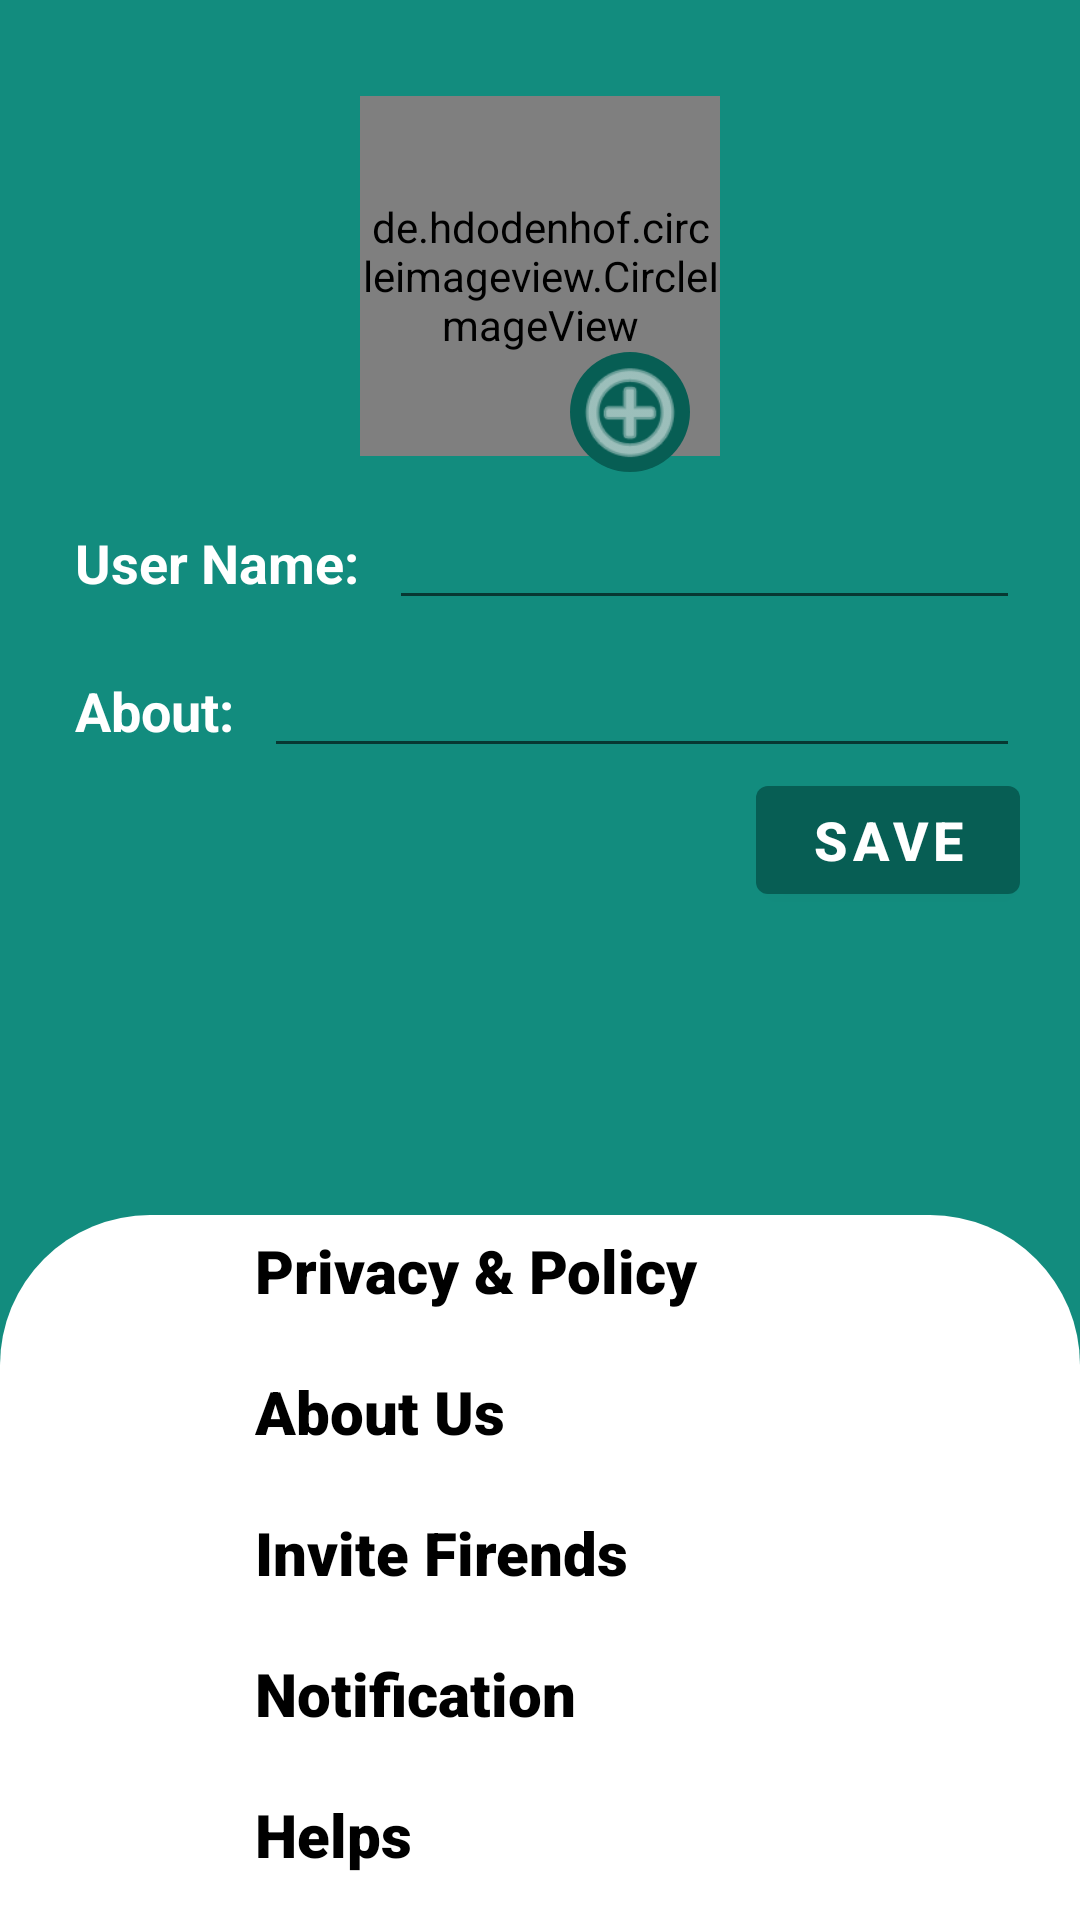

Icon bounding boxes for this 1080x1920 phone screenshot, format (x1, y1, x2, y2):
add: (570, 352, 690, 472)
